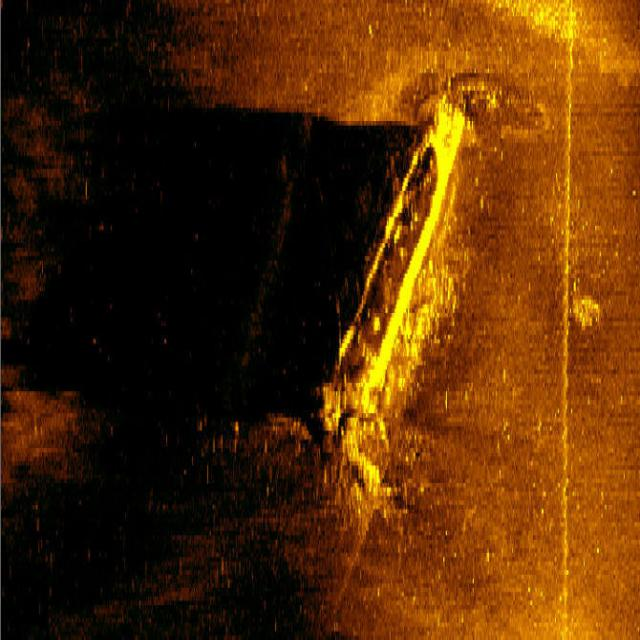ship: (332, 94, 465, 414)
